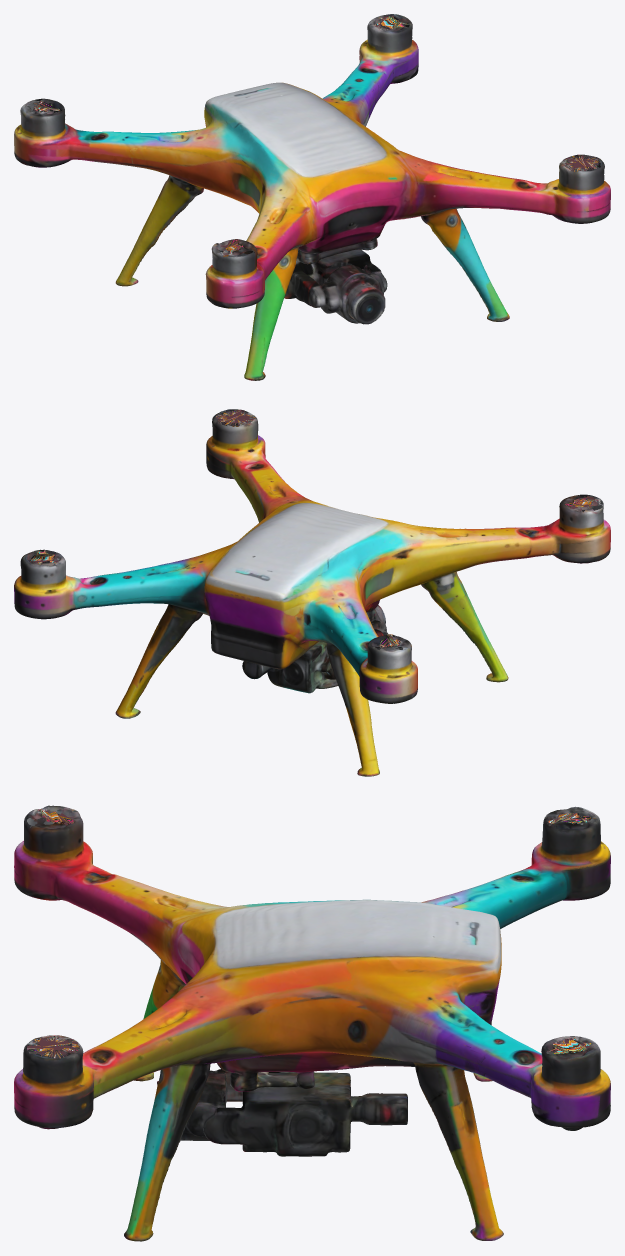
Rendered from drone9.glb.
3 views of the same model, one above another, from view 1: azimuth 30°, elevation 25°; view 2: azimuth 150°, elevation 25°; view 3: azimuth 270°, elevation 25° (orthographic). The views are drawn at different scales.
Parts seen in each view (by area): view 1: Mesh_0; view 2: Mesh_0; view 3: Mesh_0.
Part boxes in pixels (left/top/right/bottom): Mesh_0: left=14, top=14, right=610, bottom=380; Mesh_0: left=14, top=409, right=610, bottom=776; Mesh_0: left=14, top=805, right=610, bottom=1241.
Bounding box in the file's own units: 1.24 × 0.5125 × 1.2.
1 material, 1 textured.
